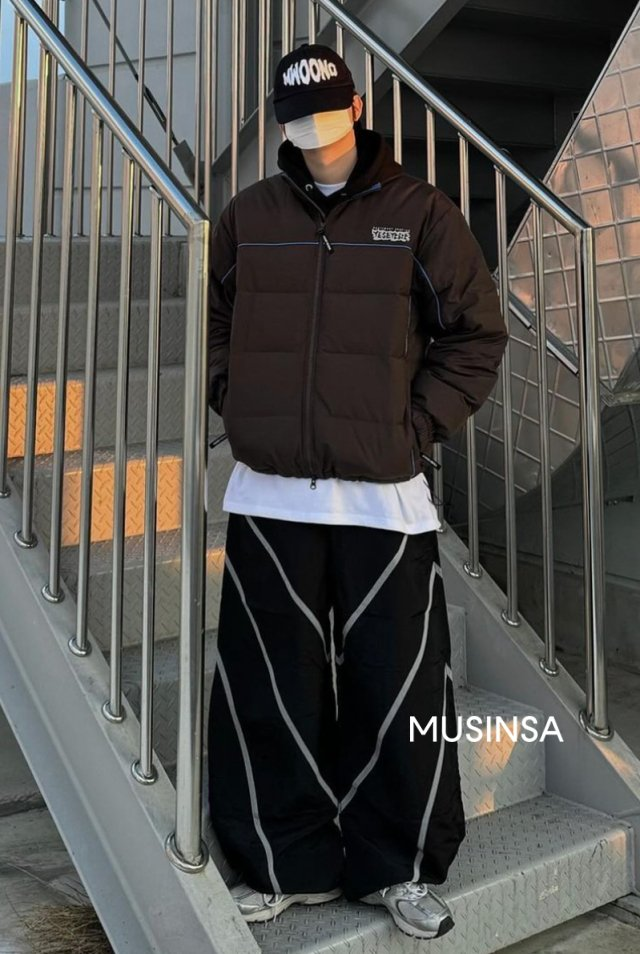Bubble jacket: (194, 154, 503, 482)
Cap: (264, 41, 358, 115)
Mask: (282, 116, 362, 147)
Pants: (204, 507, 476, 883)
Shoes: (222, 870, 459, 943)
